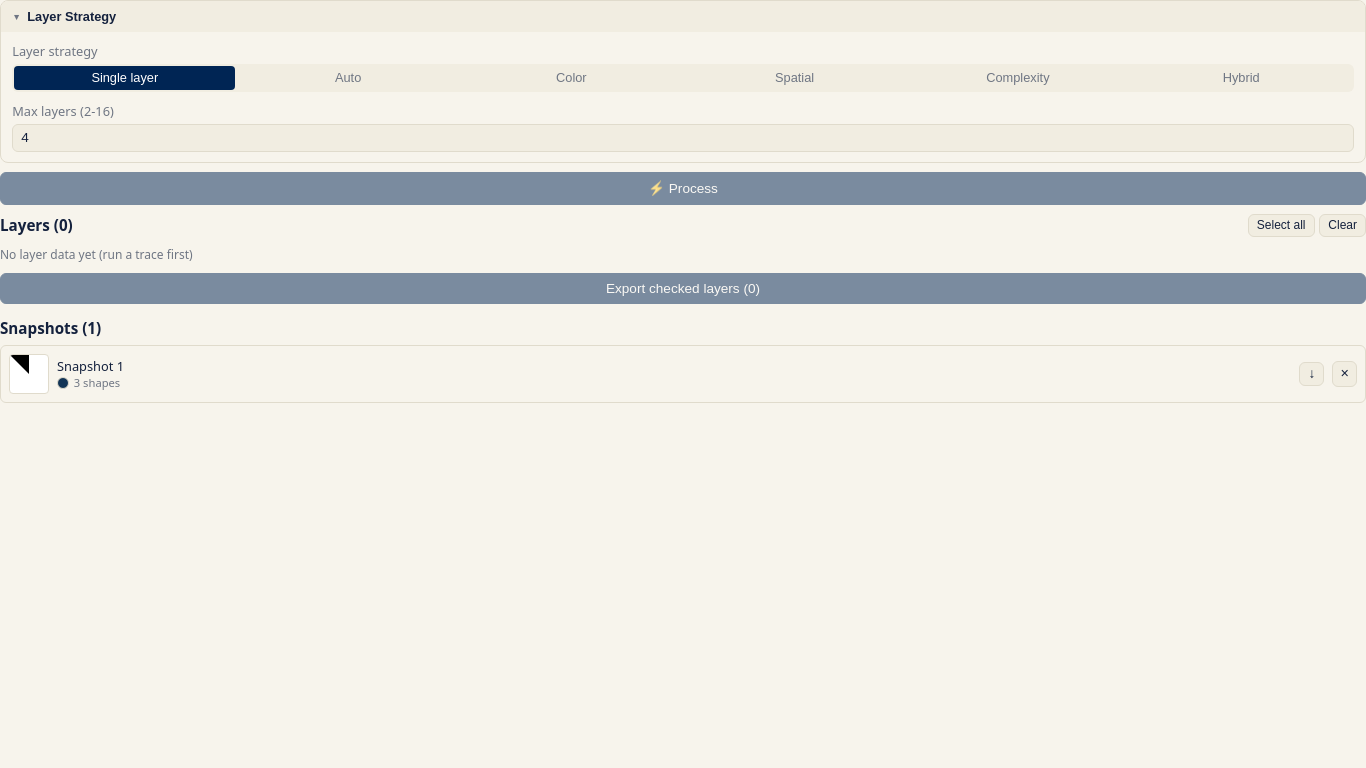
LayerPanel snapshot list › asks before dropping a snapshot, then reports it once
Click the button with class "saved-layer-remove" at (1345, 374), box [1332,361,1357,387]
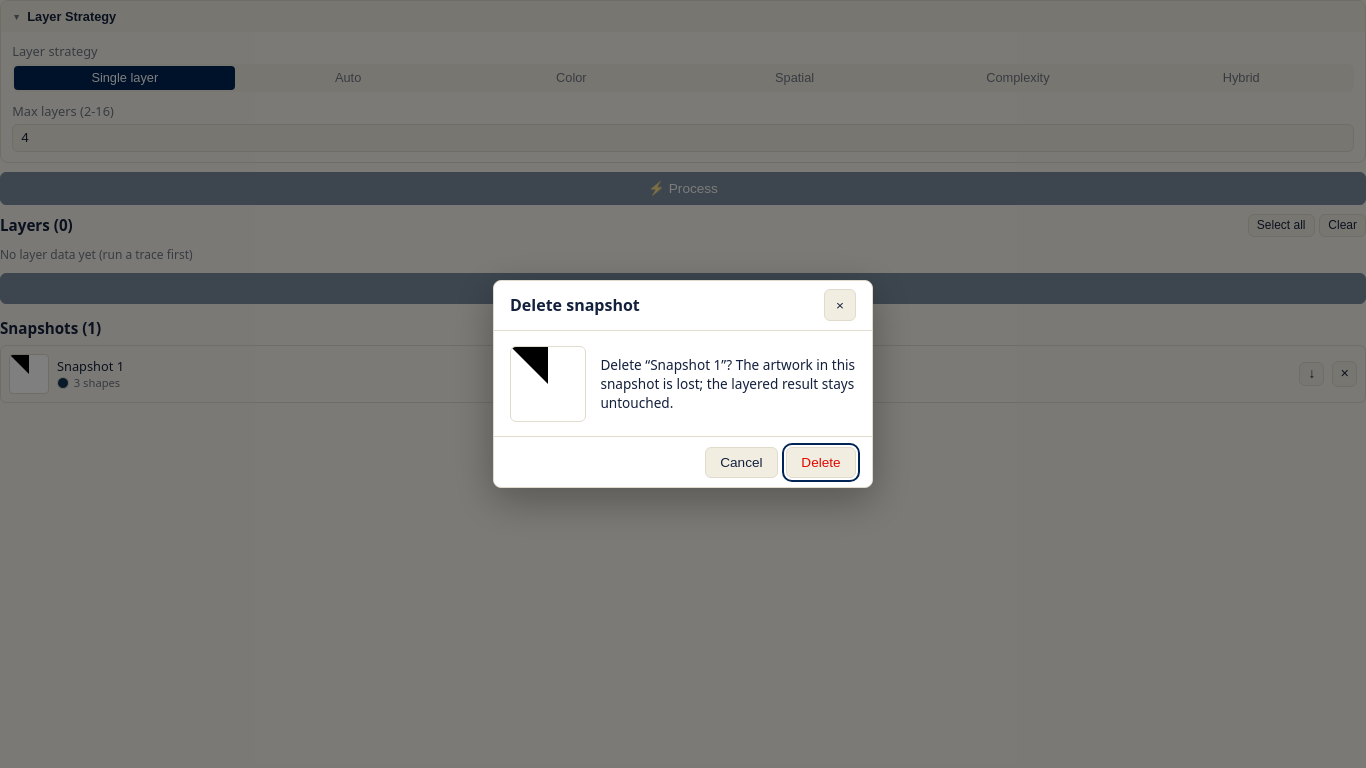
Now the dialog with class "confirm-modal" is shown, box [493,280,873,488]
Click the button "Delete" at (821, 462), box [786,446,856,478]
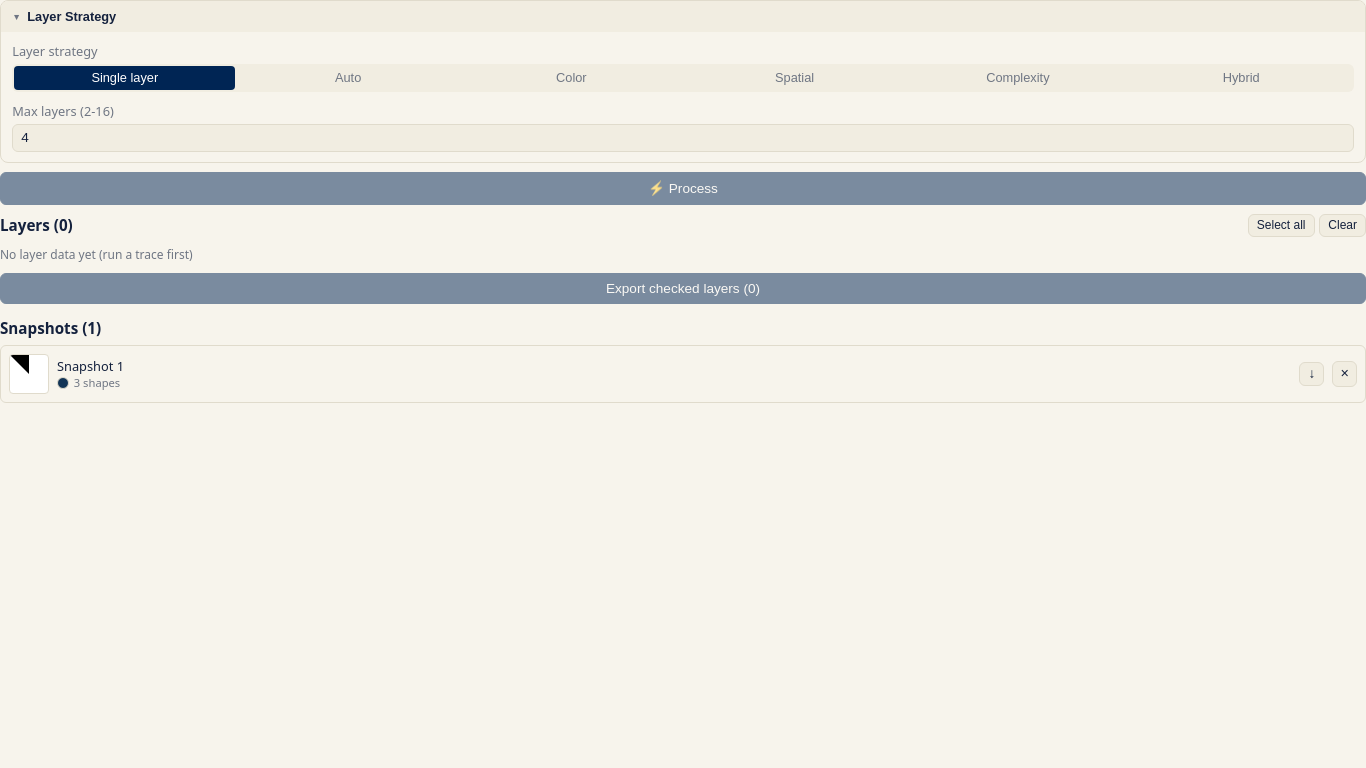
Now the dialog with class "confirm-modal" is gone
